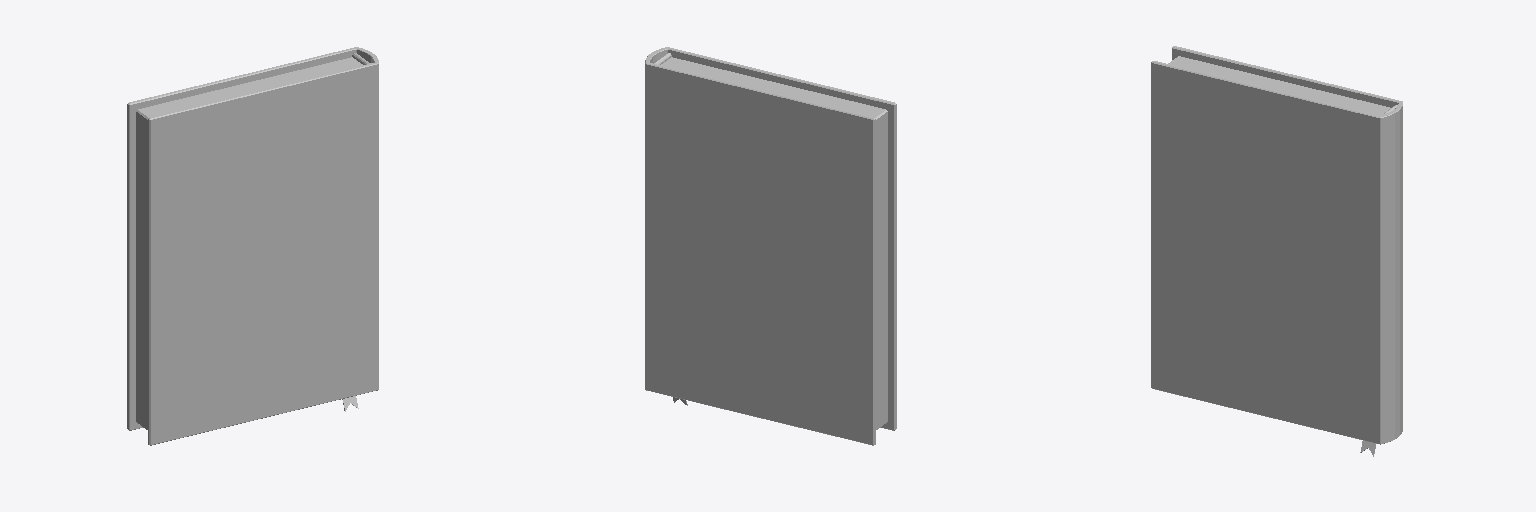
The model's file is bible.obj.
3 views of the same model, side by side, from view 1: azimuth 30°, elevation 25°; view 2: azimuth 150°, elevation 25°; view 3: azimuth 330°, elevation 25° (orthographic).
Visible parts, largest first — view 1: Cube_Cube.001; view 2: Cube_Cube.001; view 3: Cube_Cube.001.
Boxes of the visible parts, x1=… form: Cube_Cube.001: x1=127, y1=47, x2=378, y2=445; Cube_Cube.001: x1=645, y1=47, x2=896, y2=445; Cube_Cube.001: x1=1151, y1=46, x2=1402, y2=456.
Bounding box in the file's own units: 2.05 × 2.89 × 0.3457.